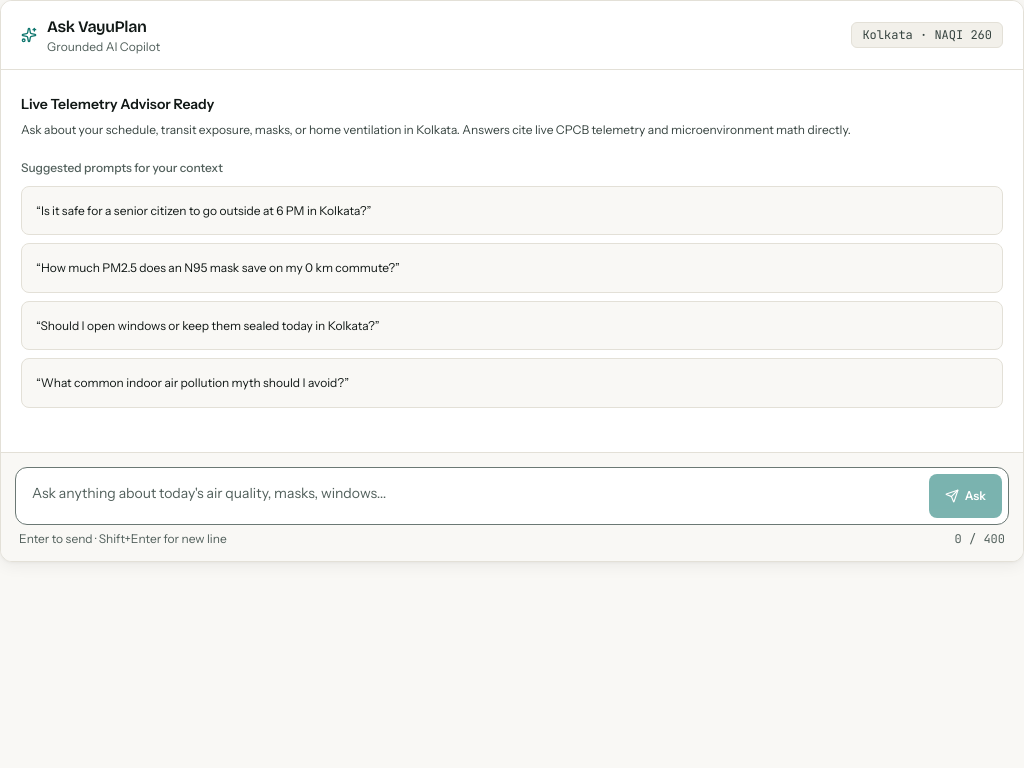
GroundedChat Component › updates character counter as user types within 400 character budget
Expected: the text "0 / 400" is shown, top-left (955, 530), bottom-right (1005, 546)
Type "Is it safe to walk?" into the text box with placeholder "Ask anything about today's air quality, masks, windows..." at [471, 496], box top-left (22, 474), bottom-right (921, 518)
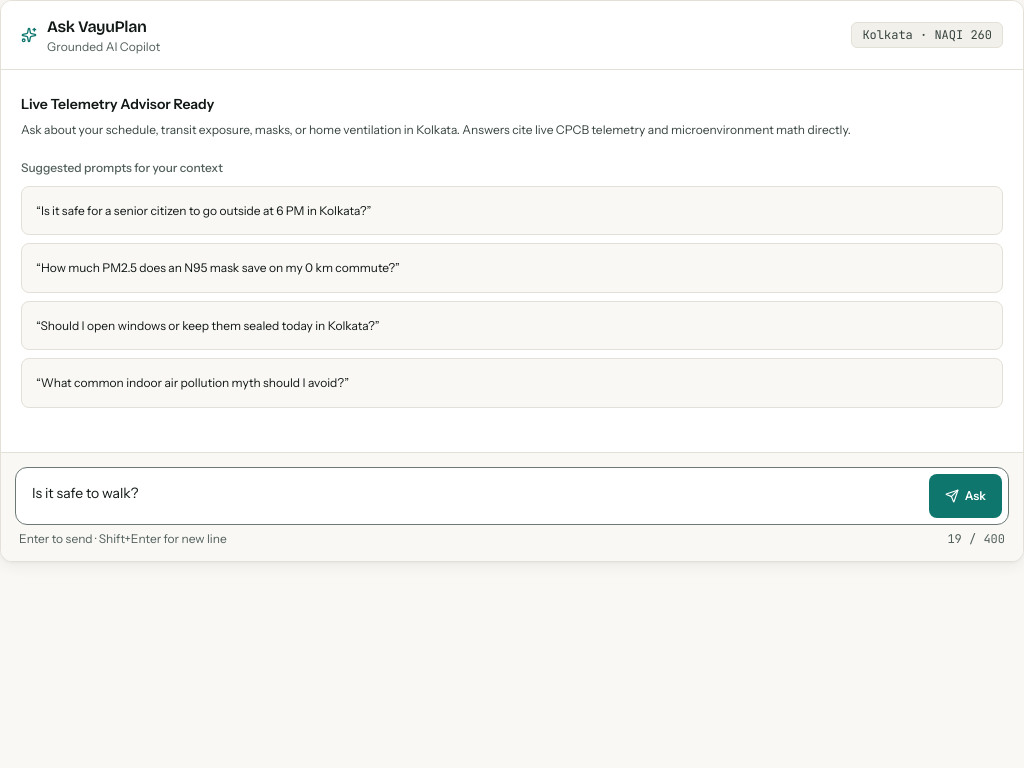
Expected: the text "19 / 400" is shown, top-left (947, 530), bottom-right (1005, 546)
